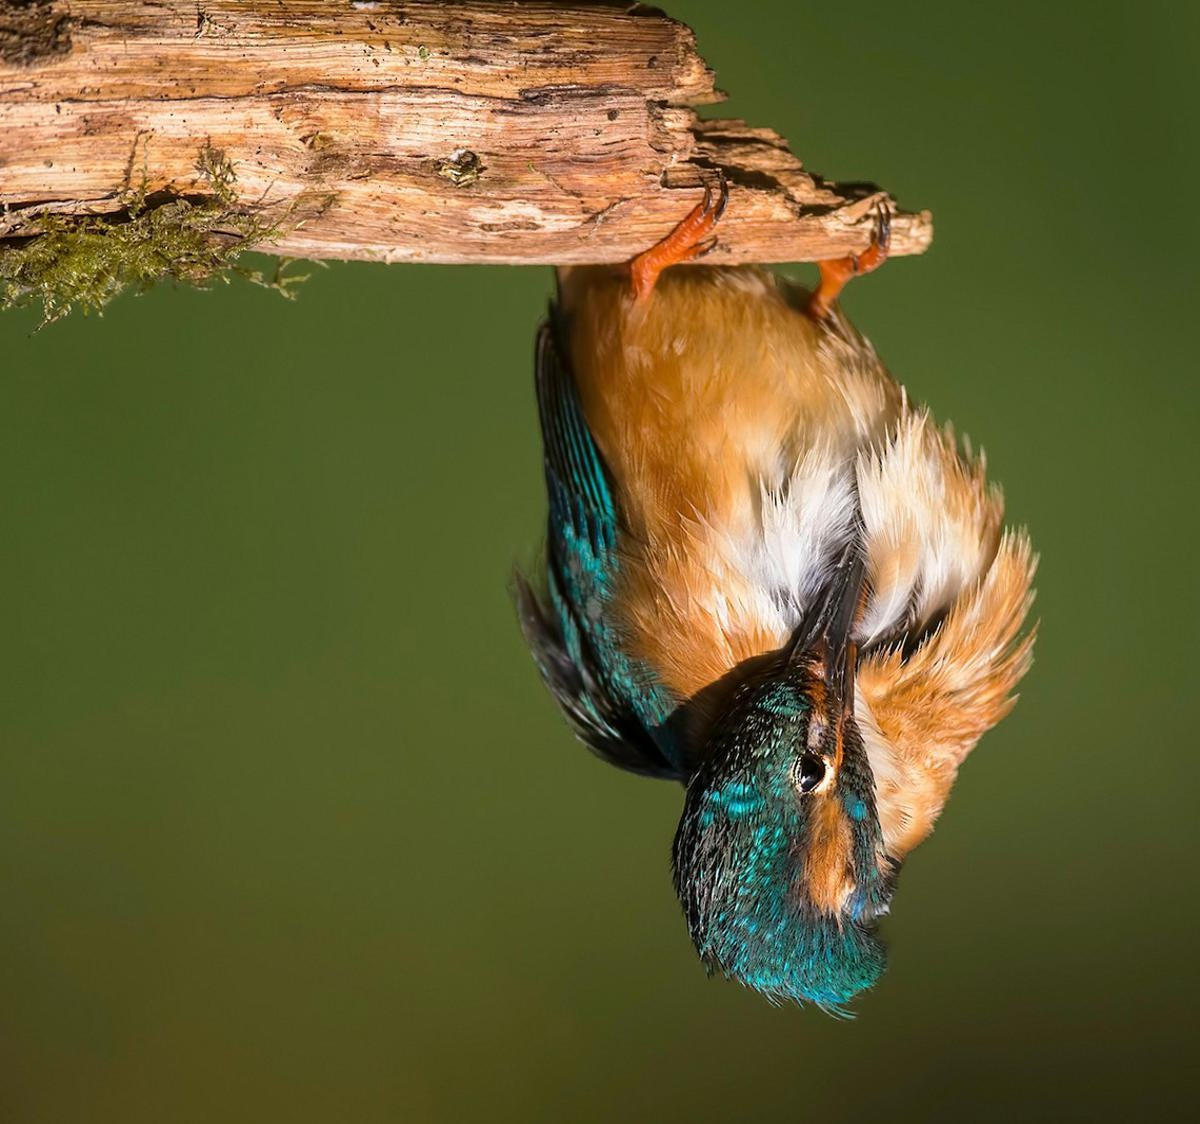kingfisher: (536, 168, 1052, 1027)
